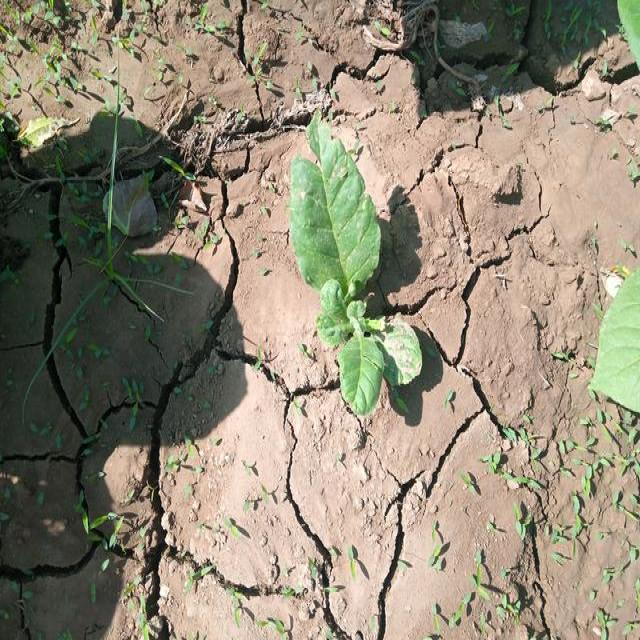crop: (286, 114, 426, 415)
